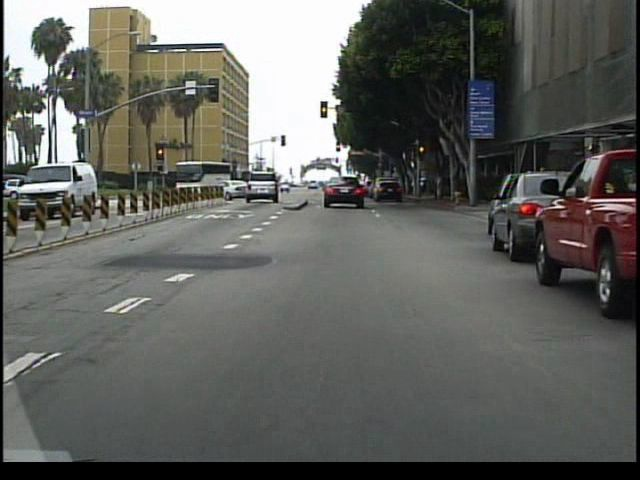person: (67, 174, 80, 210), (45, 170, 59, 203), (60, 174, 73, 208)
